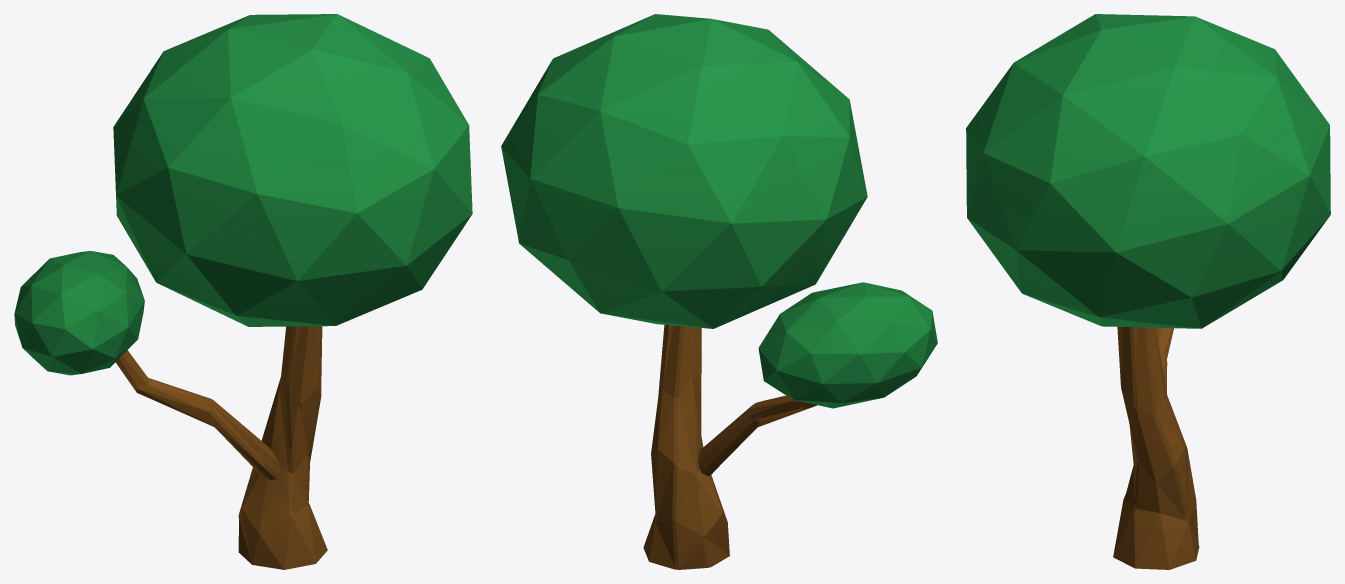
Rendered from tree_round.glb.
3 renders of one model, left to right at view 1: azimuth 30°, elevation 25°; view 2: azimuth 150°, elevation 25°; view 3: azimuth 270°, elevation 25°, orthographic.
Visible parts, largest first — view 1: Poplar Tree_1_AA; view 2: Poplar Tree_1_AA; view 3: Poplar Tree_1_AA.
Boxes of the visible parts, bbox=[...] form: Poplar Tree_1_AA: bbox=[14, 14, 472, 569]; Poplar Tree_1_AA: bbox=[501, 14, 937, 569]; Poplar Tree_1_AA: bbox=[966, 14, 1330, 569].
Bounding box in the file's own units: 2.96 × 3.53 × 2.23.
Materials: 1 (1 with a texture image).
